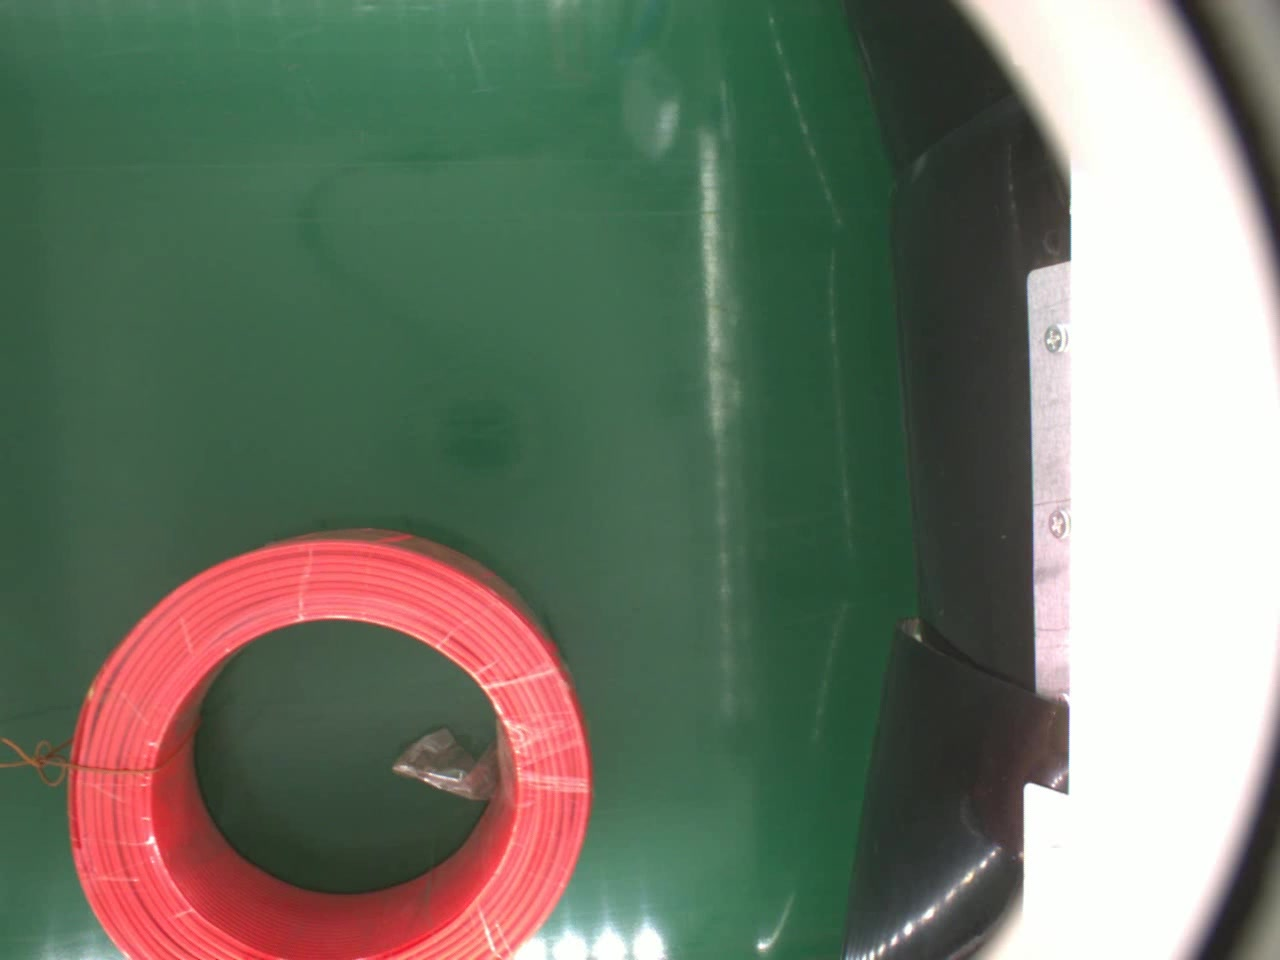red: (70, 525, 601, 960)
